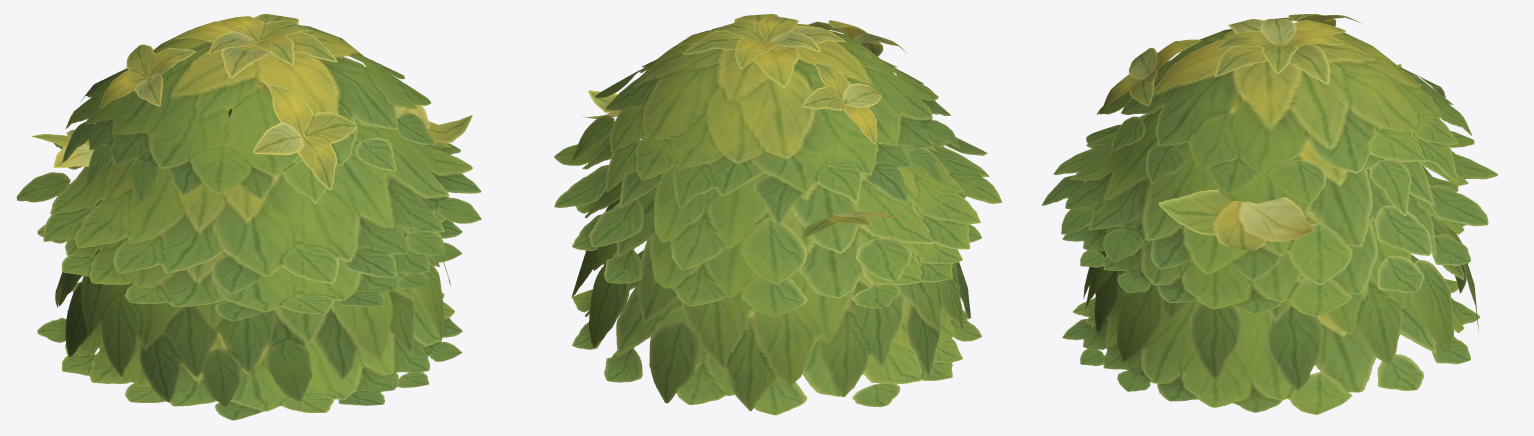
Rendered from Bush10.fbx.
The picture shows the model from 3 angles, left to right: view 1: azimuth 30°, elevation 25°; view 2: azimuth 150°, elevation 25°; view 3: azimuth 270°, elevation 25°; orthographic projection.
Visible parts, largest first — view 1: LysimachiaBush.005; view 2: LysimachiaBush.005; view 3: LysimachiaBush.005.
Part boxes in pixels (box(x1,y1,x2,y2)): LysimachiaBush.005: box(16, 14, 481, 420); LysimachiaBush.005: box(554, 14, 1001, 415); LysimachiaBush.005: box(1042, 14, 1497, 414).
Size of the model in its own units: 127 by 86.37 by 127.
1 material, 1 textured.
